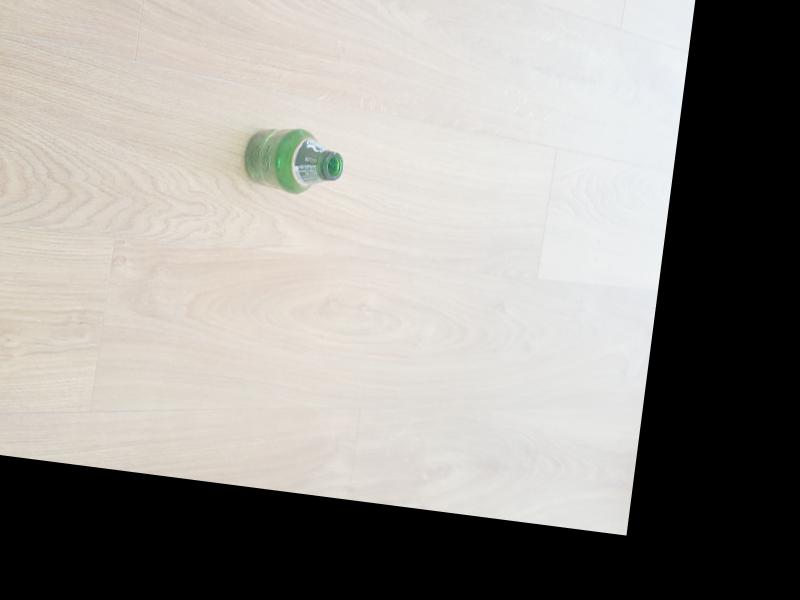Beer: (238, 123, 346, 204)
